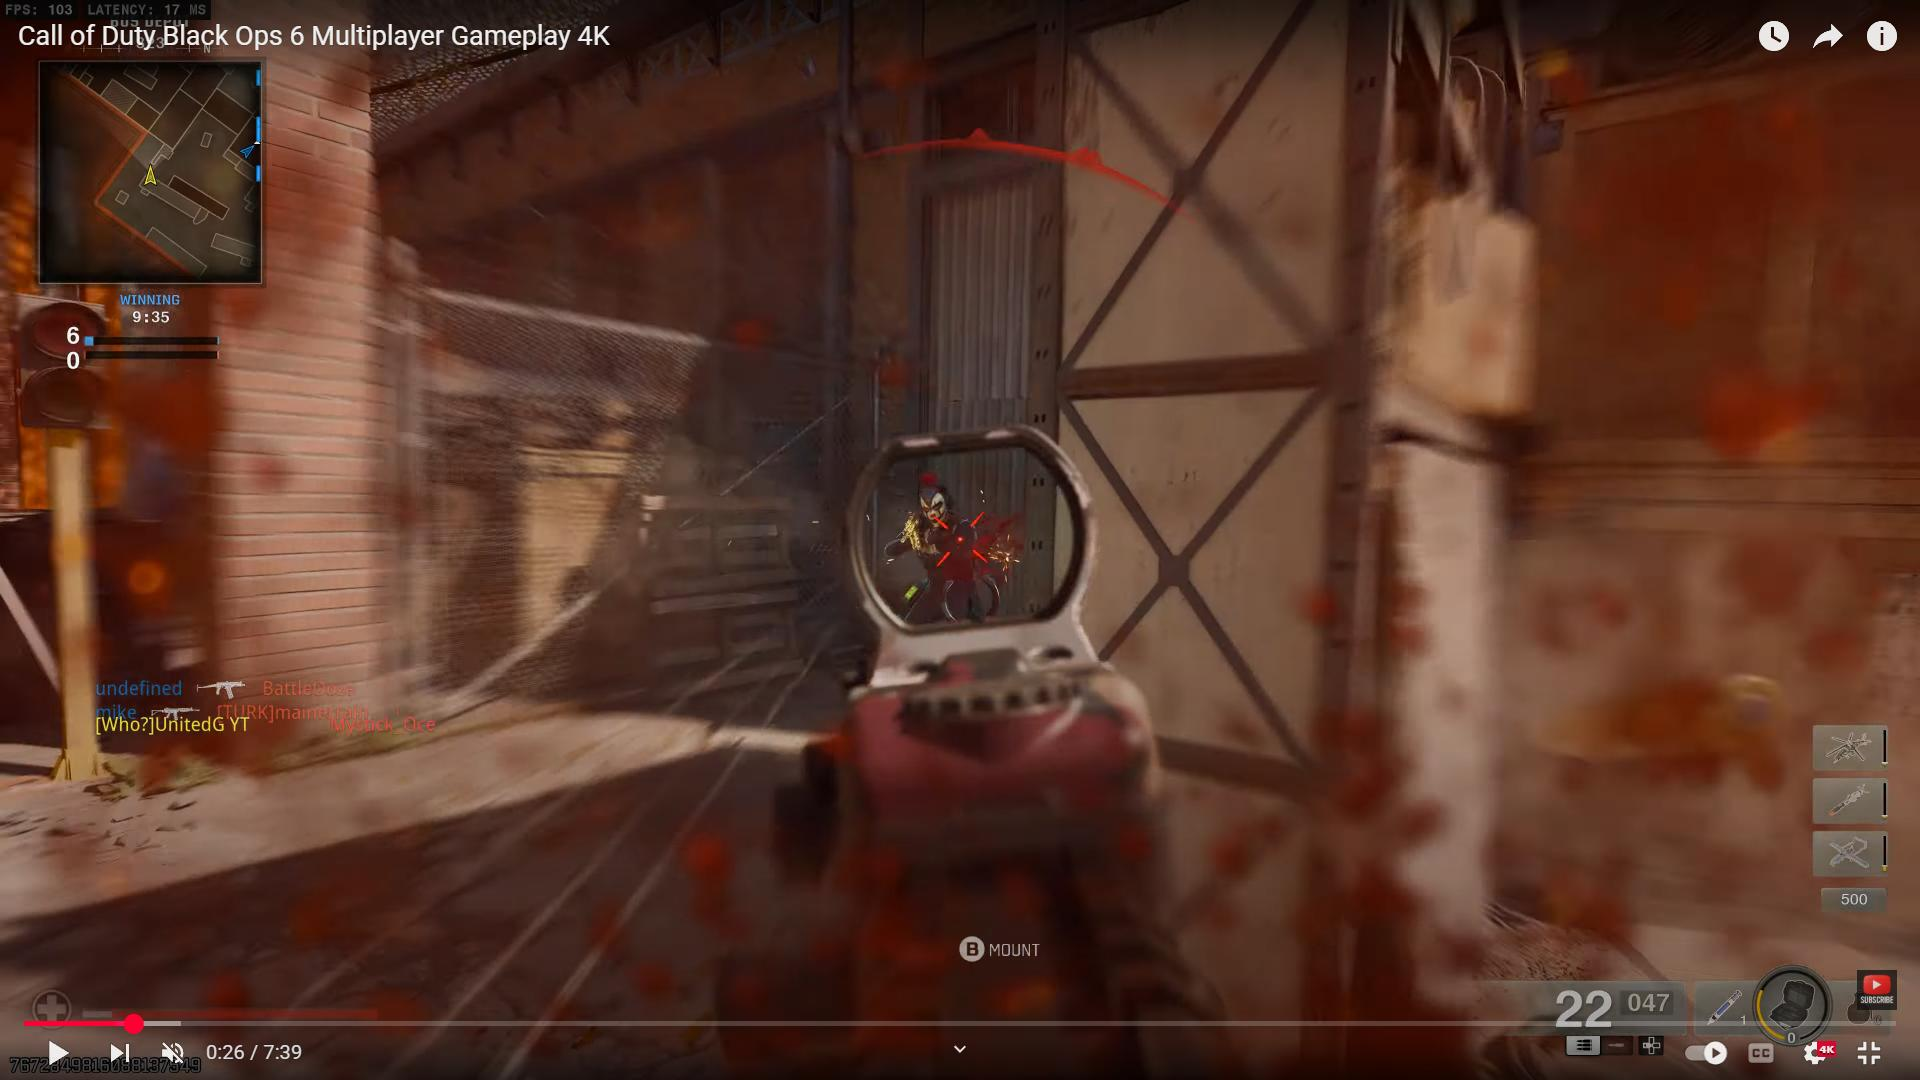Enemy: (895, 483, 977, 621)
